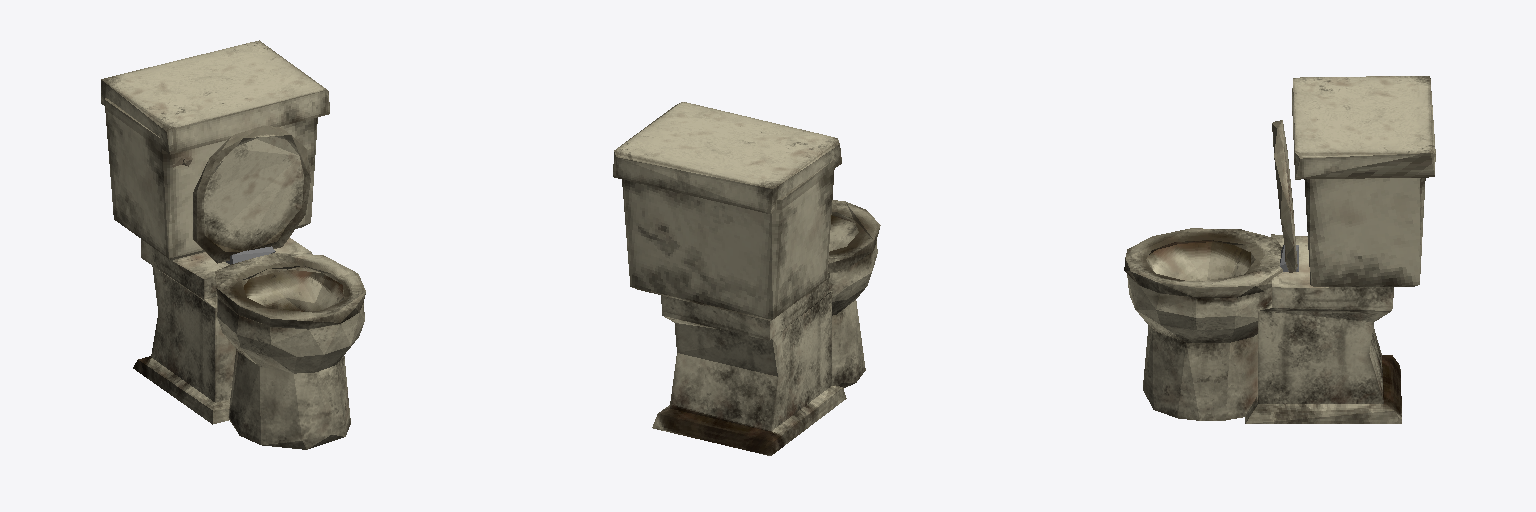
3 views of the same model, side by side, from view 1: azimuth 30°, elevation 25°; view 2: azimuth 150°, elevation 25°; view 3: azimuth 270°, elevation 25° (orthographic).
Parts seen in each view (by area): view 1: pCylinder2_Mesh.006_lambert2; view 2: pCylinder2_Mesh.006_lambert2; view 3: pCylinder2_Mesh.006_lambert2.
Part boxes in pixels (x1,y1,x2,y2): pCylinder2_Mesh.006_lambert2: (101, 40, 365, 449); pCylinder2_Mesh.006_lambert2: (613, 102, 880, 455); pCylinder2_Mesh.006_lambert2: (1124, 76, 1435, 423).
Size of the model in its own units: 0.6517 by 1.06 by 1.06.
Materials: 2 (1 with a texture image).